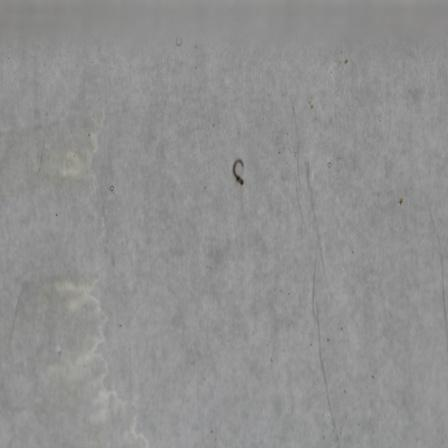Jentik-Nyamuk: (227, 154, 252, 189)
